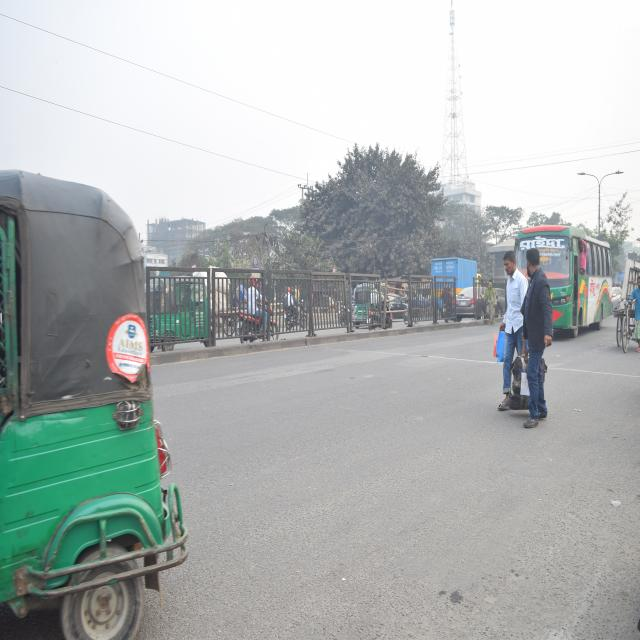bus: (512, 212, 618, 335)
motorbike: (234, 292, 279, 354), (362, 289, 393, 332)
pickup-van: (428, 250, 484, 322)
